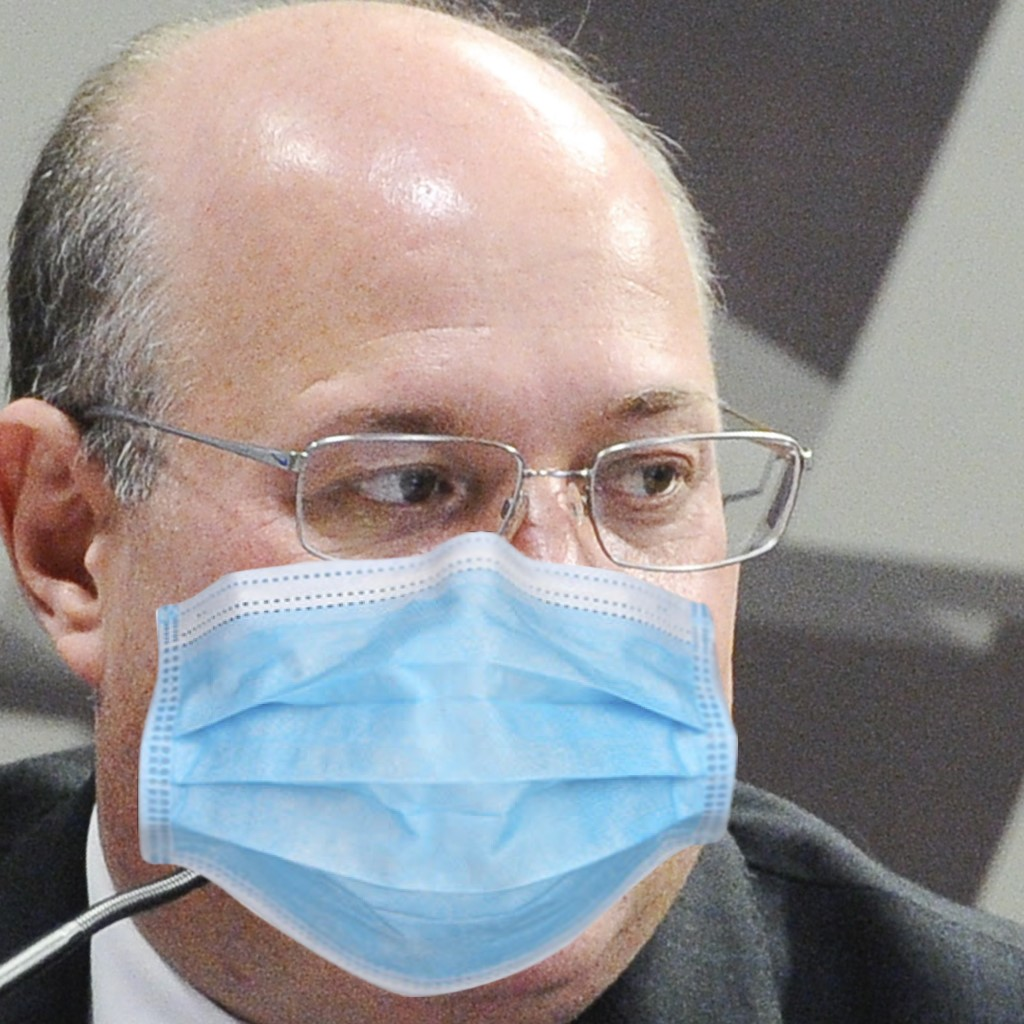con_mascara: (24, 115, 757, 977)
